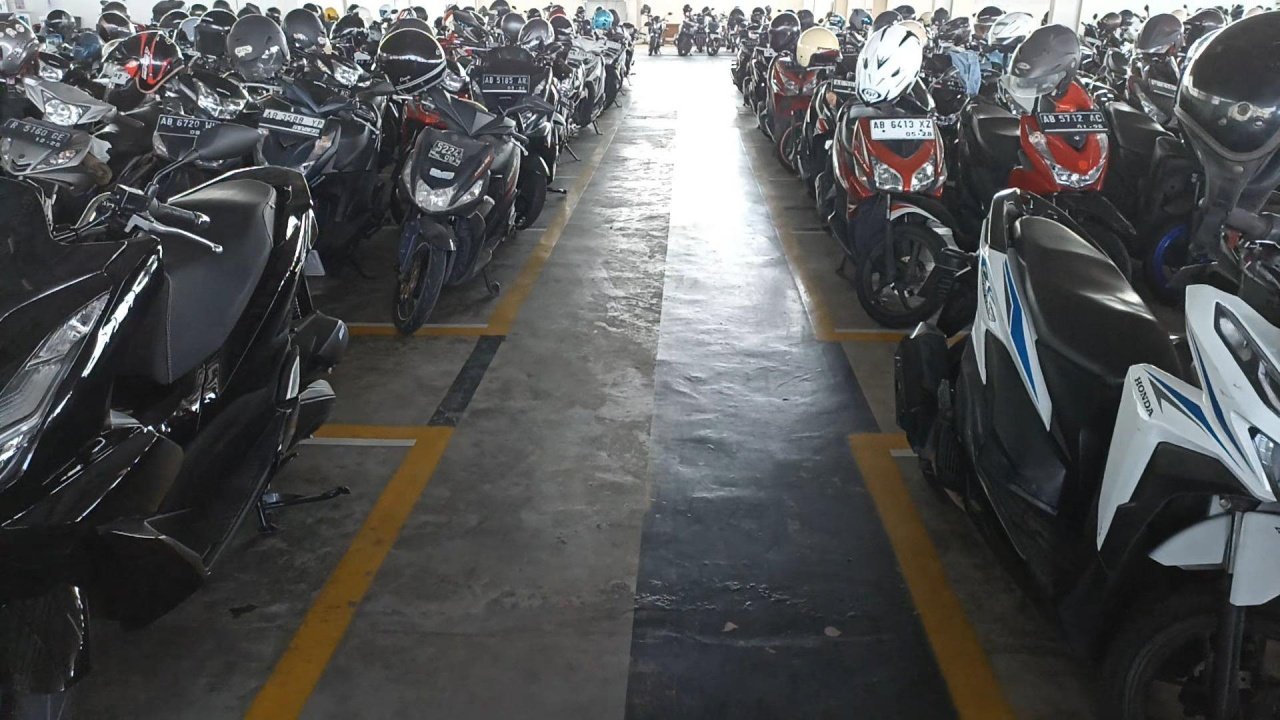plate: (0, 117, 73, 150), (259, 108, 328, 138), (1038, 111, 1109, 132), (871, 118, 935, 140), (482, 74, 529, 93)
